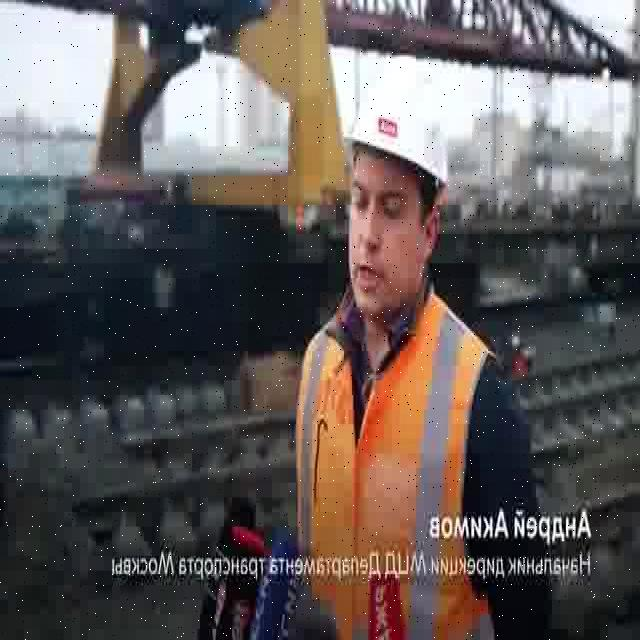Hard_hat: (341, 88, 444, 183)
Person: (261, 78, 520, 640)
Vest: (294, 309, 484, 640)
